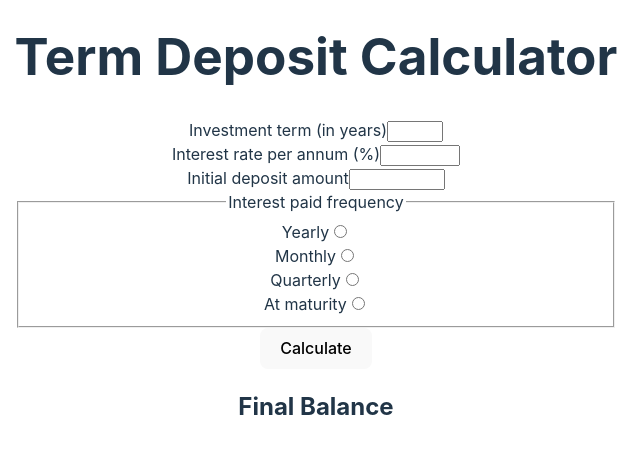
it: TermDepositCalculator › should display final balance when form is submitted with term deposit interest paid at maturity
This screenshot has width=634, height=463.
Type "3" into the number field labelled "Investment term (in years)" at (415, 132), box [387,121,443,142]
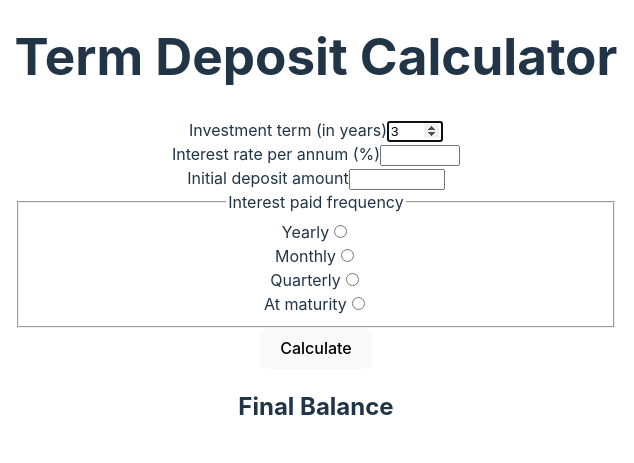
Type "1.1" into the number field labelled "Interest rate per annum (%)" at (420, 156), box [380,145,460,166]
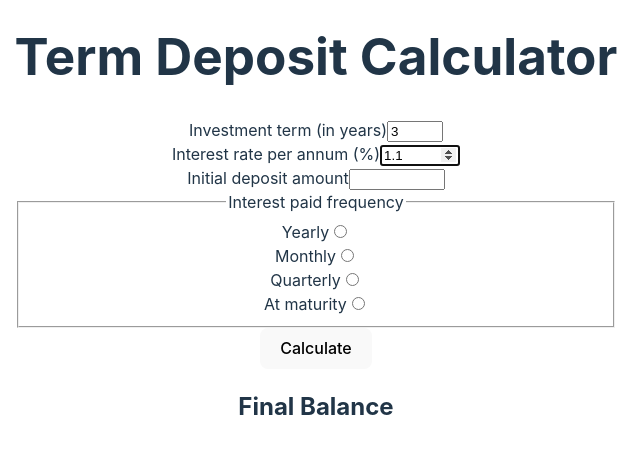
Type "10000" into the number field labelled "Initial deposit amount" at (397, 180), box [349,169,445,190]
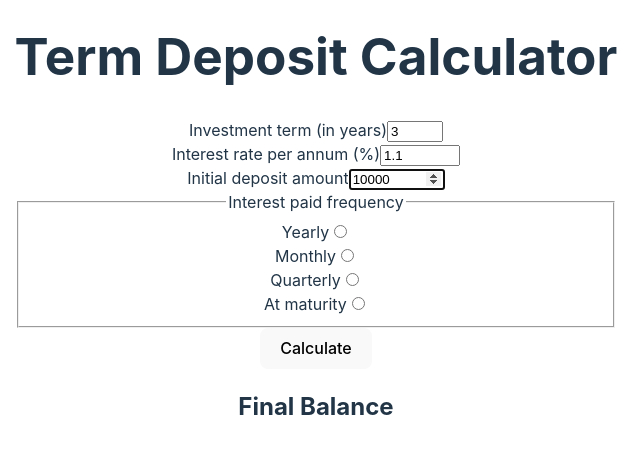
Click the radio button labelled "At maturity" at (358, 303), box [352,297,365,310]
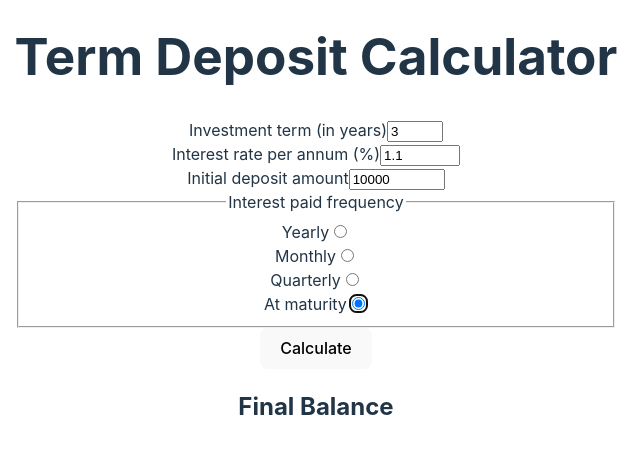
Click the button "Calculate" at (316, 348), box [260,328,372,369]
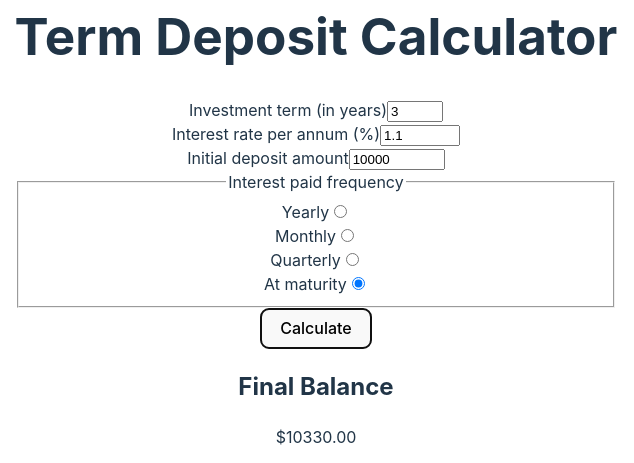
Expected: the text "$10330.00" is shown, [276,427,356,447]
